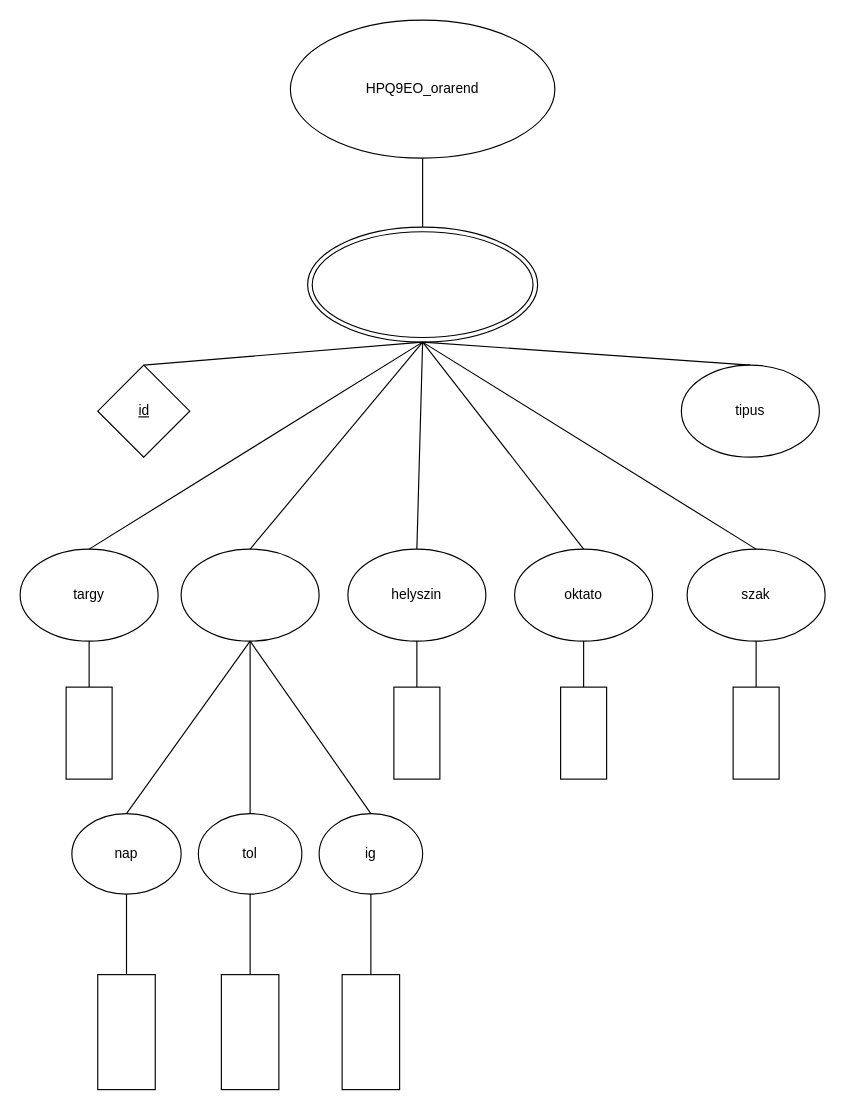
The diagram is 845 pixels wide and 1110 high, and some of its shapes have lost their labels. The box of each missing label's shape, as (x1, y1, x2, y2) in pixels:
idopont: (180, 548, 319, 641)
ora: (306, 226, 538, 342)
